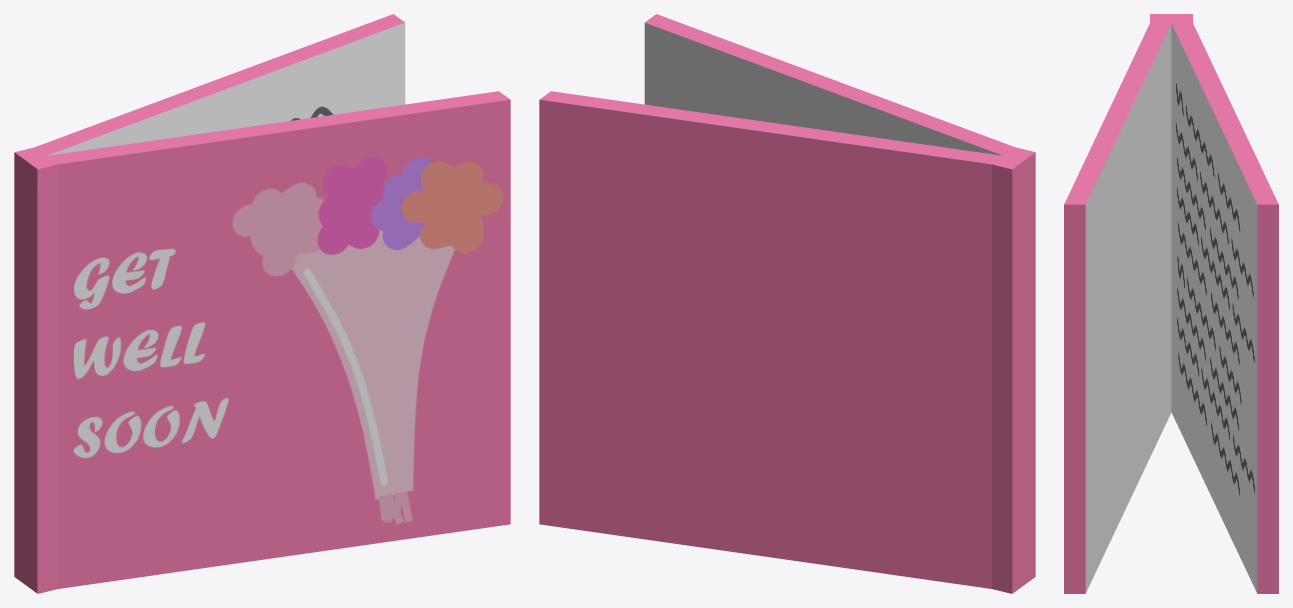
The model's file is GetWellSoon.fbx.
3 views of the same model, side by side, from view 1: azimuth 30°, elevation 25°; view 2: azimuth 150°, elevation 25°; view 3: azimuth 270°, elevation 25° (orthographic). The views are drawn at different scales.
Visible parts, largest first — view 1: Cube; view 2: Cube; view 3: Cube.
Boxes of the visible parts, x1=… form: Cube: x1=14, y1=14, x2=510, y2=593; Cube: x1=539, y1=14, x2=1035, y2=593; Cube: x1=1064, y1=14, x2=1278, y2=593.
Size of the model in its own units: 210 by 200 by 100.
